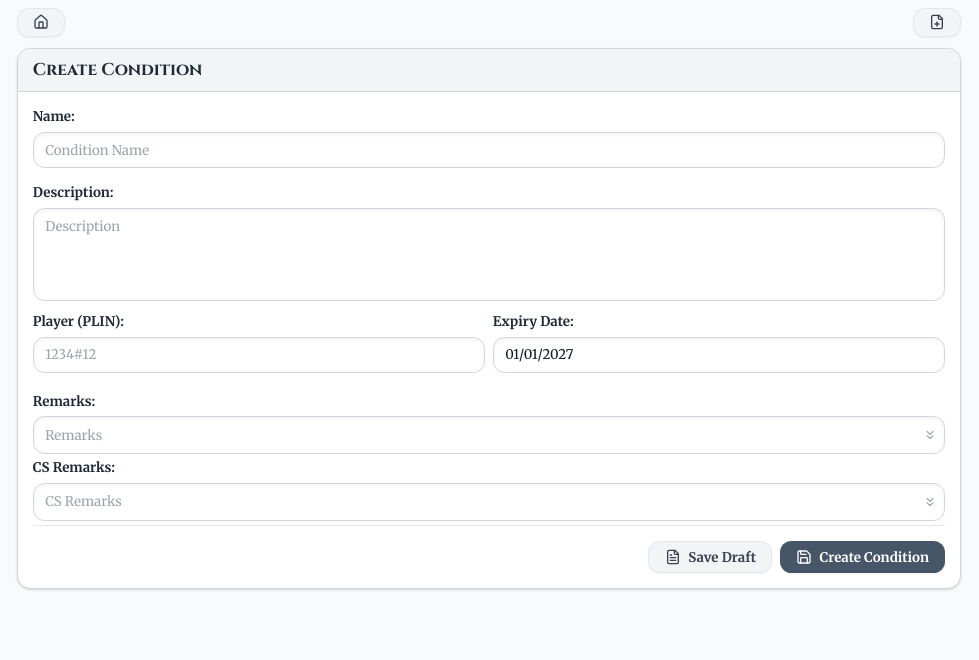
it: CreateCondition Page › saves draft condition
The image size is (979, 660).
Type "Draft Cond" into the field with placeholder "Condition Name".
click(489, 150); type("Draft Cond")  # box [33,132,945,168]
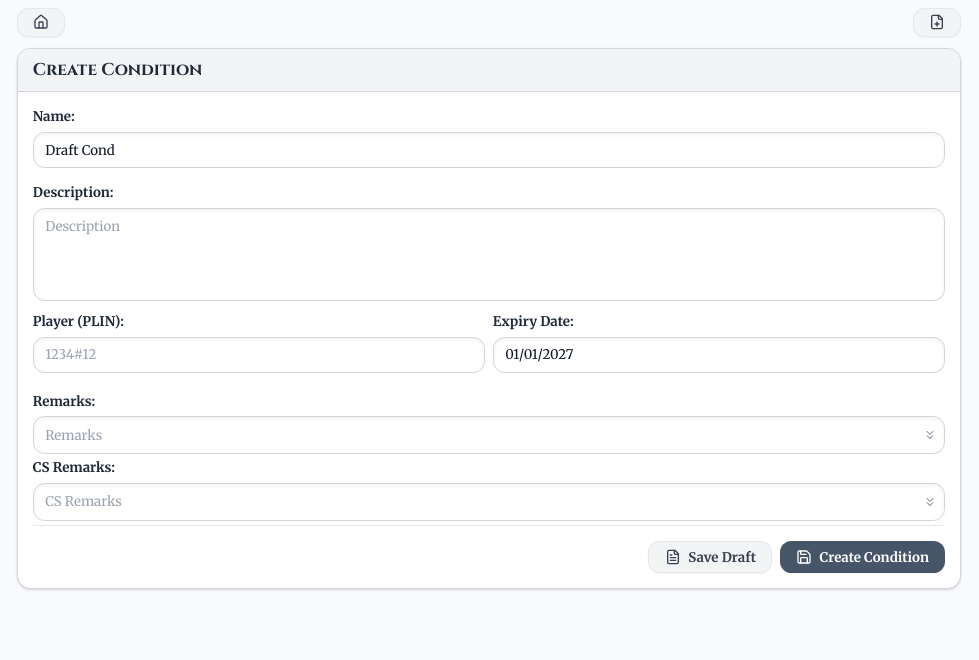
Click the button "Save Draft".
click(710, 557)  # box [648,541,772,573]
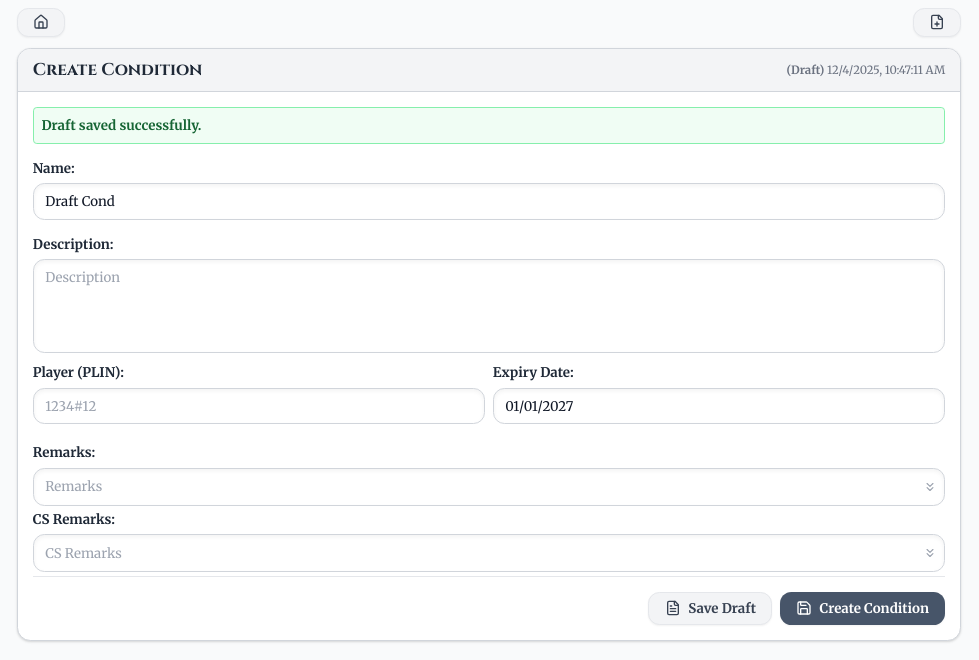
Check: the text "Draft saved successfully." is shown, box [41,117,201,134]
